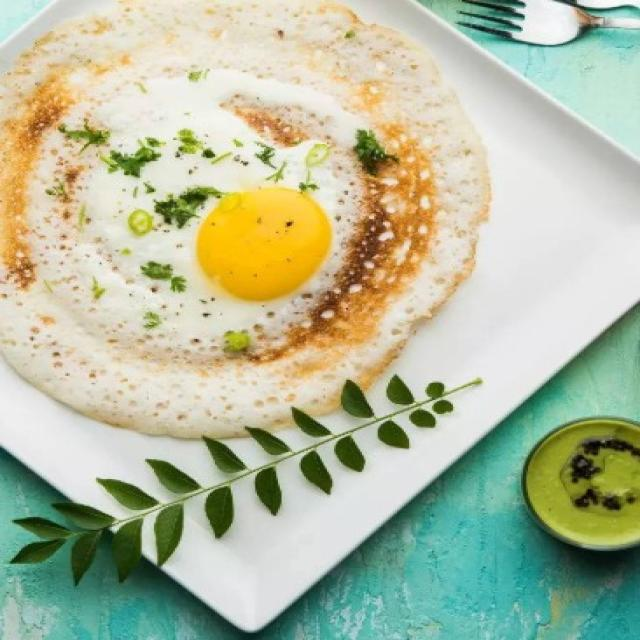EGG: (64, 109, 337, 311)
GREEN CHUTNEY: (530, 425, 637, 541)
